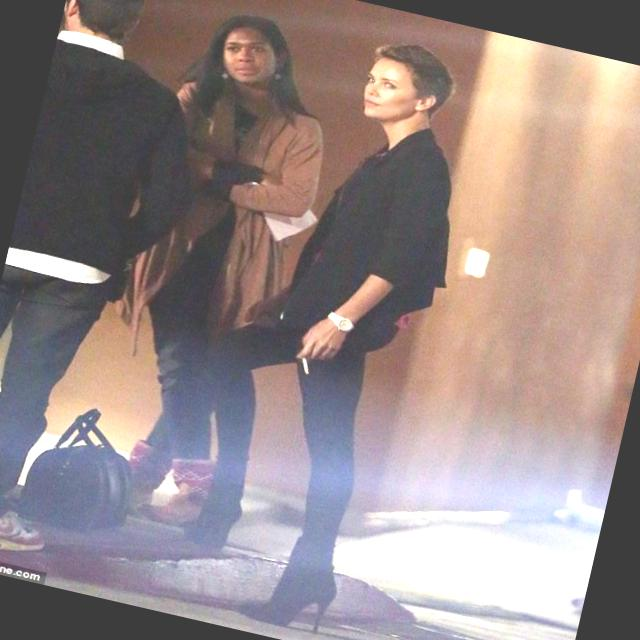smoke: (290, 344, 318, 382)
